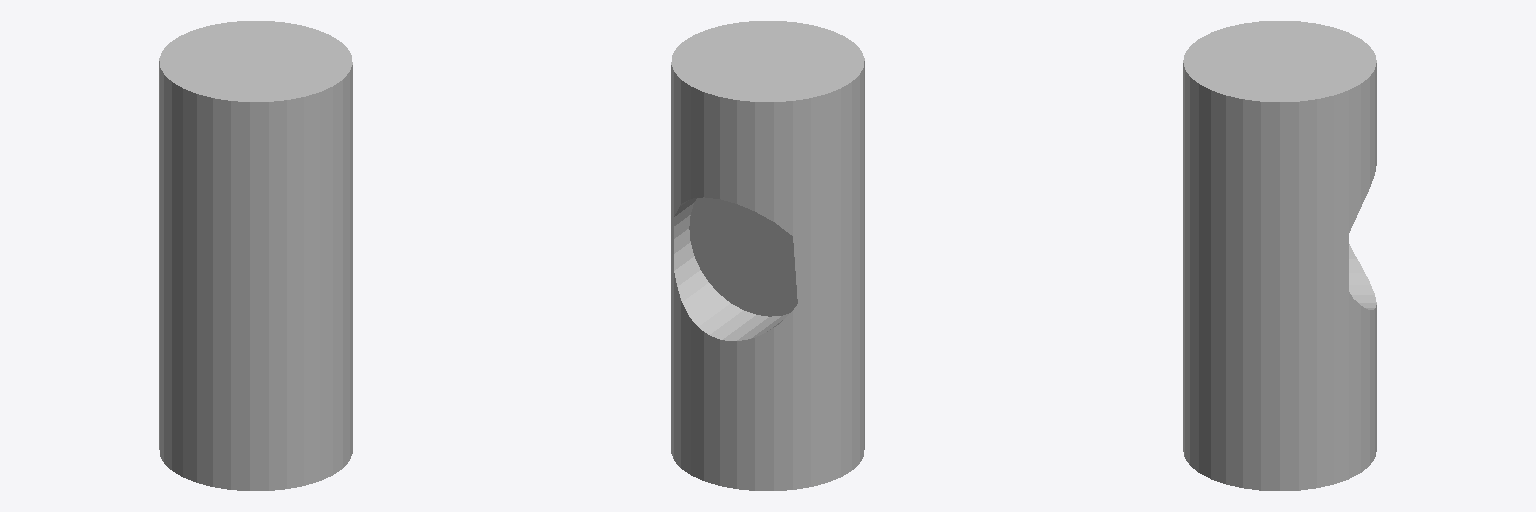
The model's file is Pot Plant test.obj.
3 views of the same model, side by side, from view 1: azimuth 30°, elevation 25°; view 2: azimuth 150°, elevation 25°; view 3: azimuth 270°, elevation 25° (orthographic).
Visible parts, largest first — view 1: Pot_Plant_test_Cylinder; view 2: Pot_Plant_test_Cylinder; view 3: Pot_Plant_test_Cylinder.
Boxes of the visible parts, x1=… form: Pot_Plant_test_Cylinder: x1=159, y1=21, x2=352, y2=490; Pot_Plant_test_Cylinder: x1=671, y1=21, x2=864, y2=490; Pot_Plant_test_Cylinder: x1=1183, y1=21, x2=1376, y2=490.
Bounding box in the file's own units: 2.63 × 5.82 × 2.63.